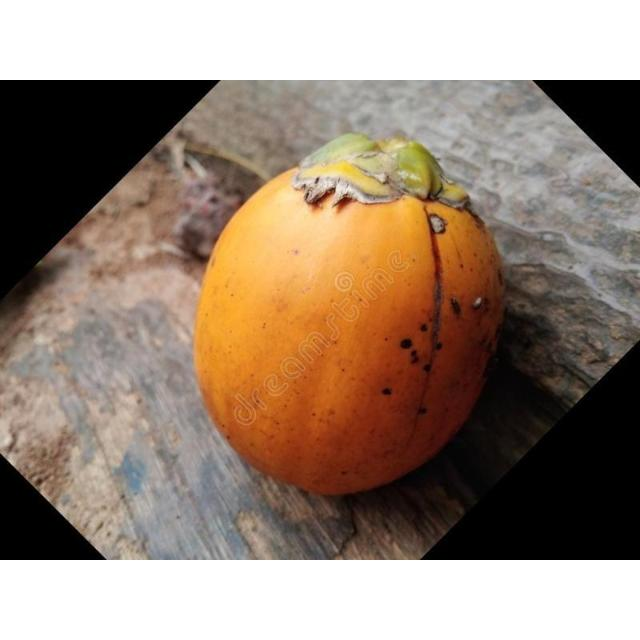good: (192, 134, 507, 498)
